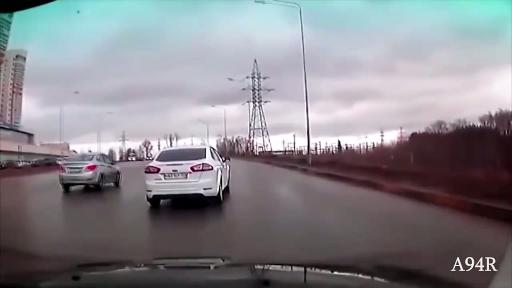CAR: (31, 109, 265, 232)
